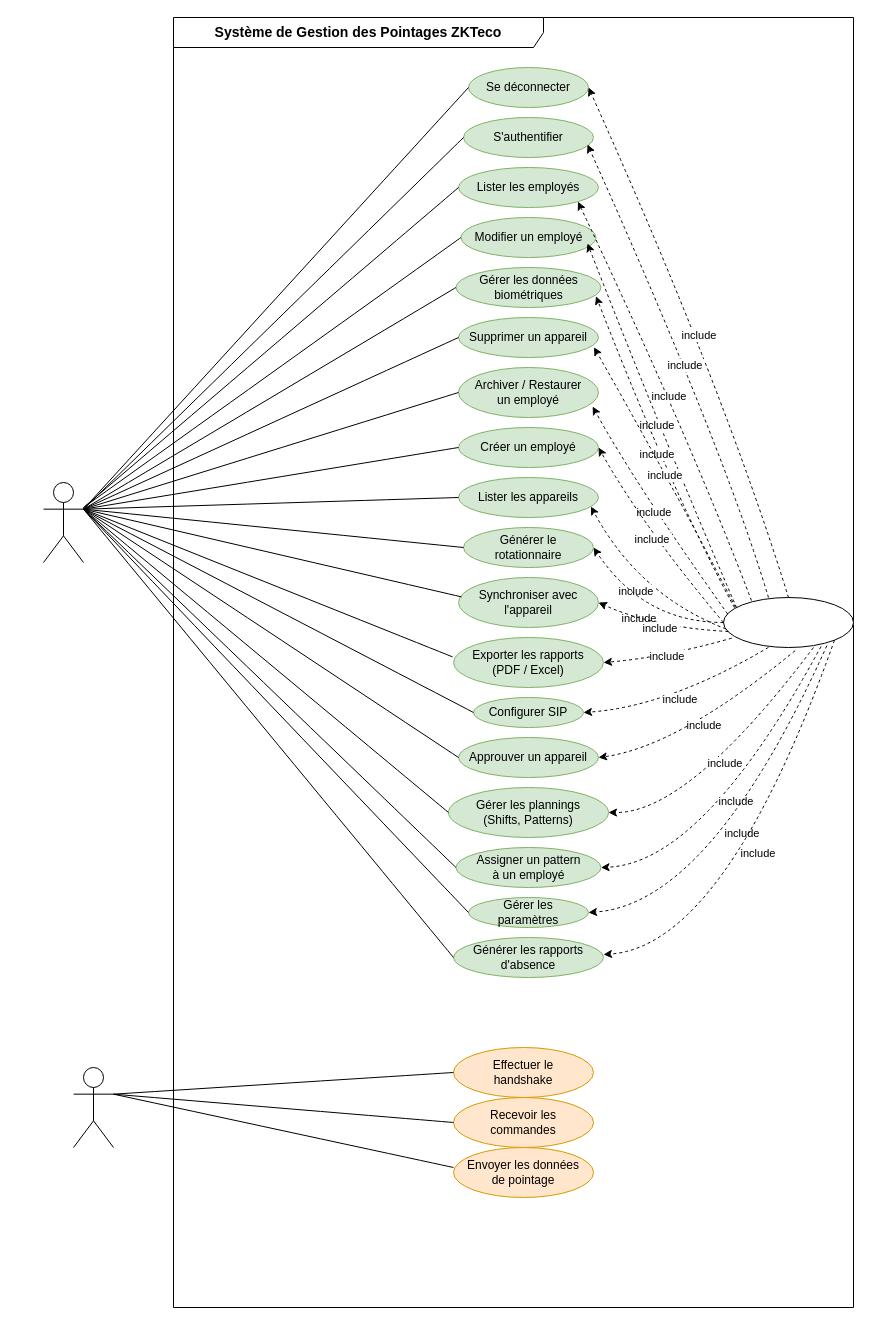
The diagram is 871 pixels wide and 1325 high, and some of its shapes have lost their labels. The box of each missing label's shape, as (x1, y1, x2, y2) in pixels:
Administrateur: (42, 482, 84, 562)
Appareil ZKTeco: (72, 1066, 114, 1148)
Auth: (722, 596, 854, 648)
